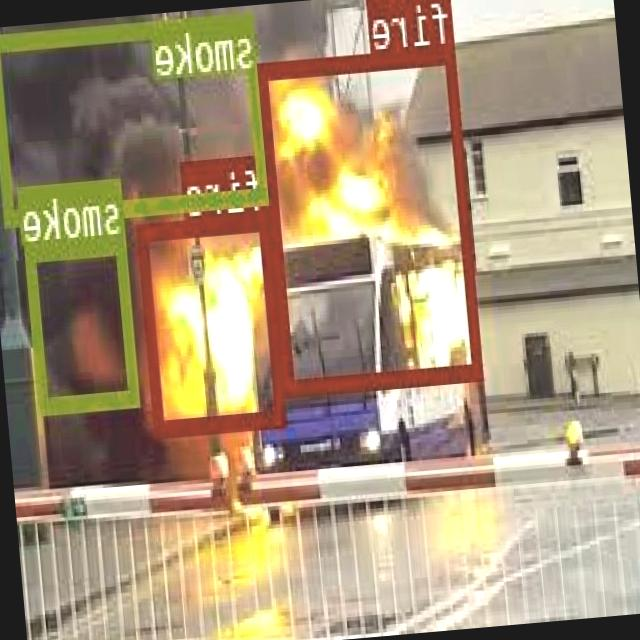fire: (258, 44, 485, 393), (138, 209, 288, 434)
smoke: (0, 9, 271, 223), (27, 235, 142, 410)
